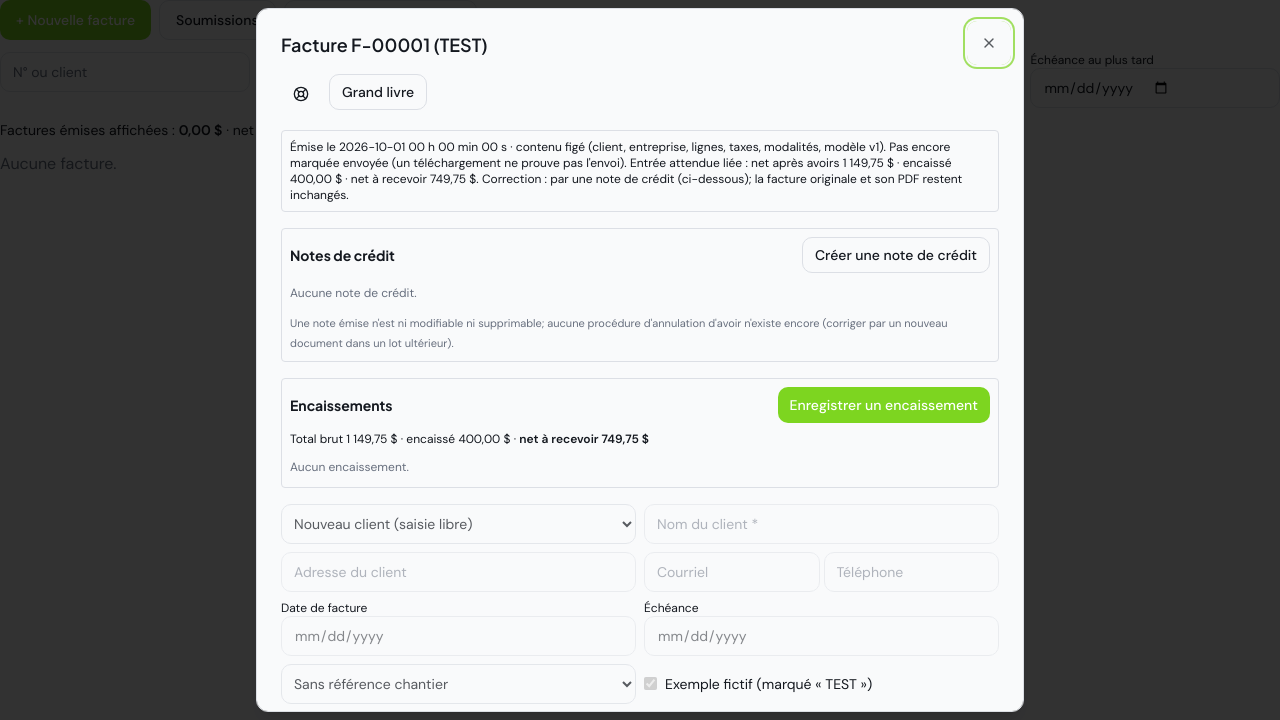
Test: FIN-09A correctifs — fiche ouverte › émettre l'avoir 229,95 met à jour la fiche déjà ouverte : net à recevoir 519,80
Click the button "Créer une note de crédit" at (896, 255), box [802,237,990,273]
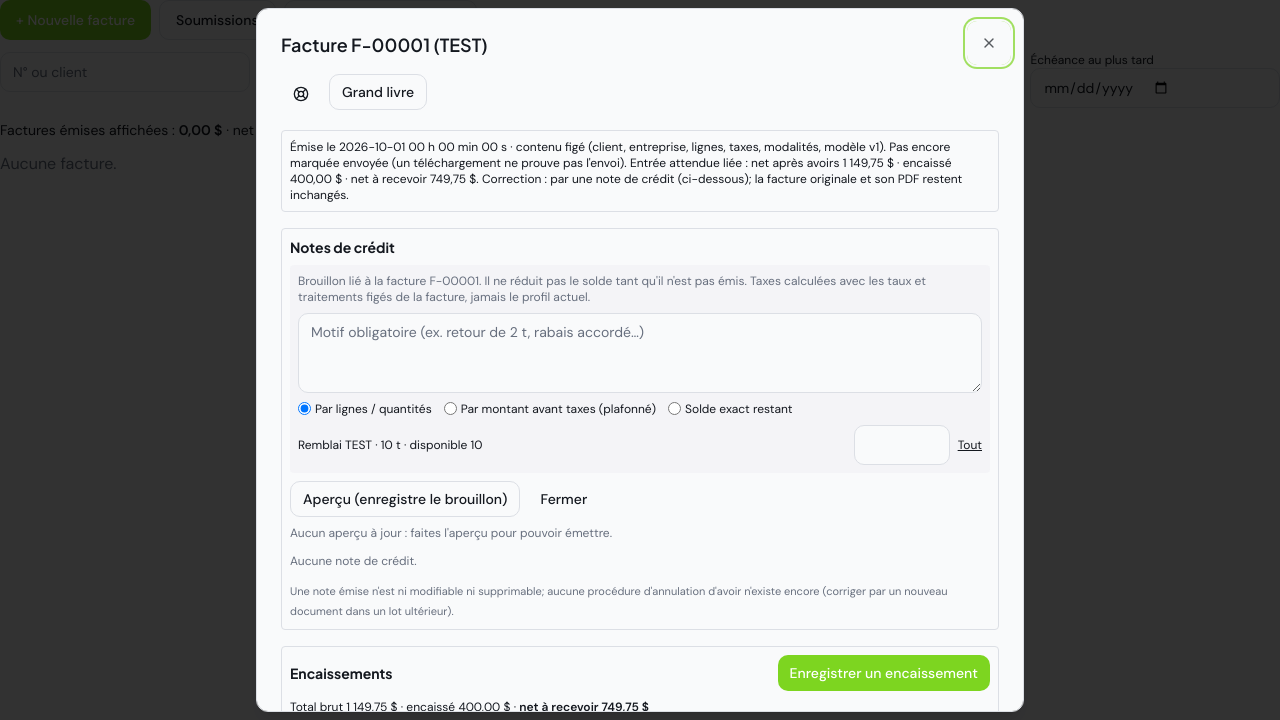
Type "Rabais TEST" into the text box labelled "Motif" at (640, 353), box [298,313,982,393]
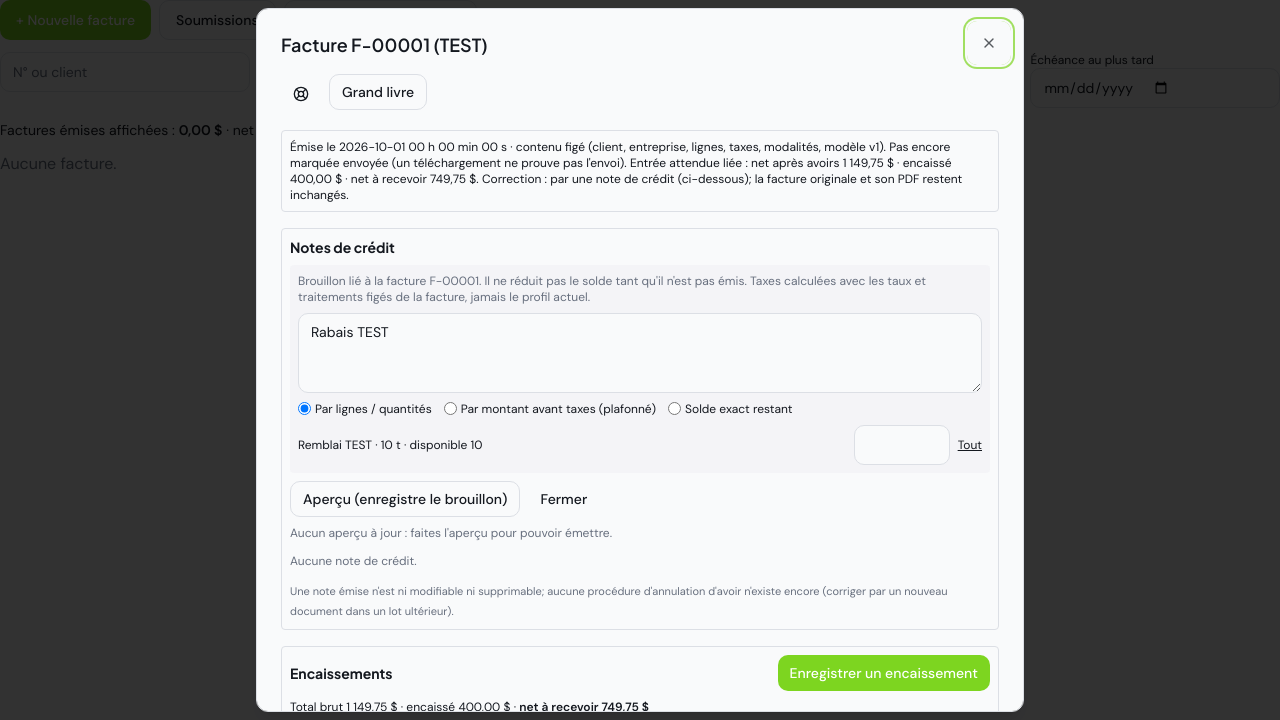
Click the radio button labelled "Par montant avant taxes (plafonné)" at (450, 409), box [444,402,457,415]
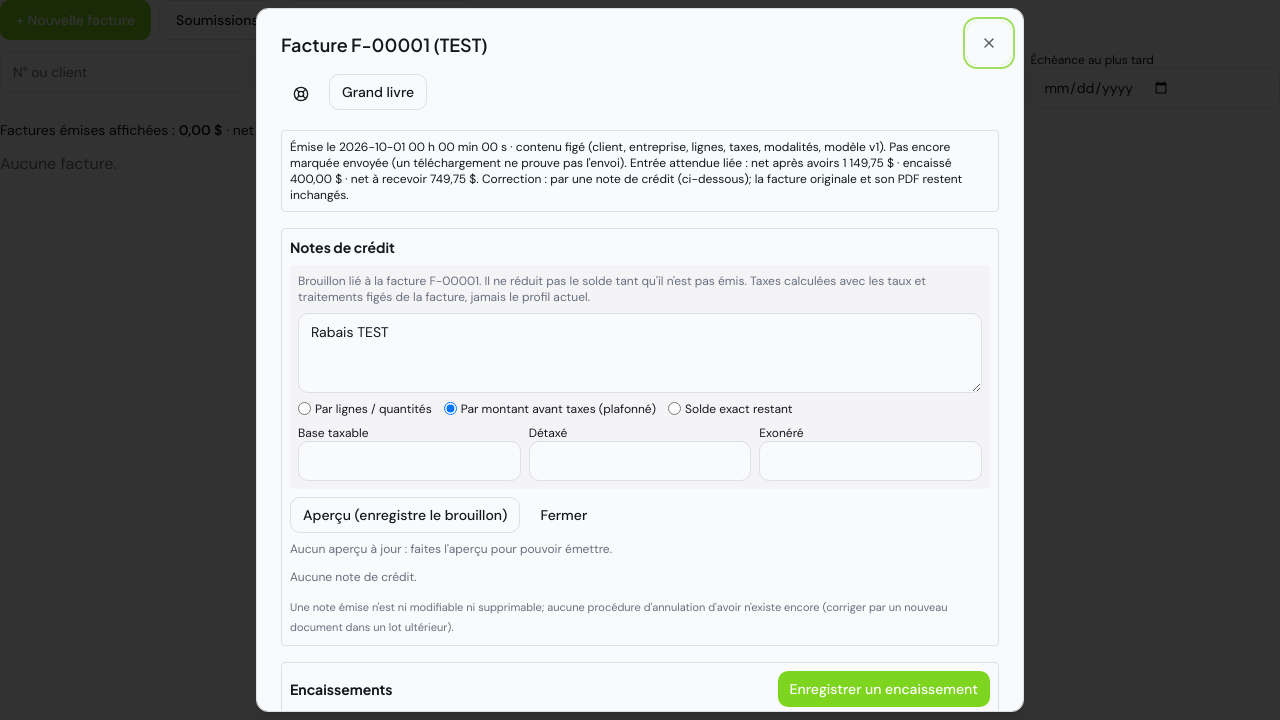
Type "200" into the field labelled "Base taxable" at (409, 461), box [298,441,521,481]
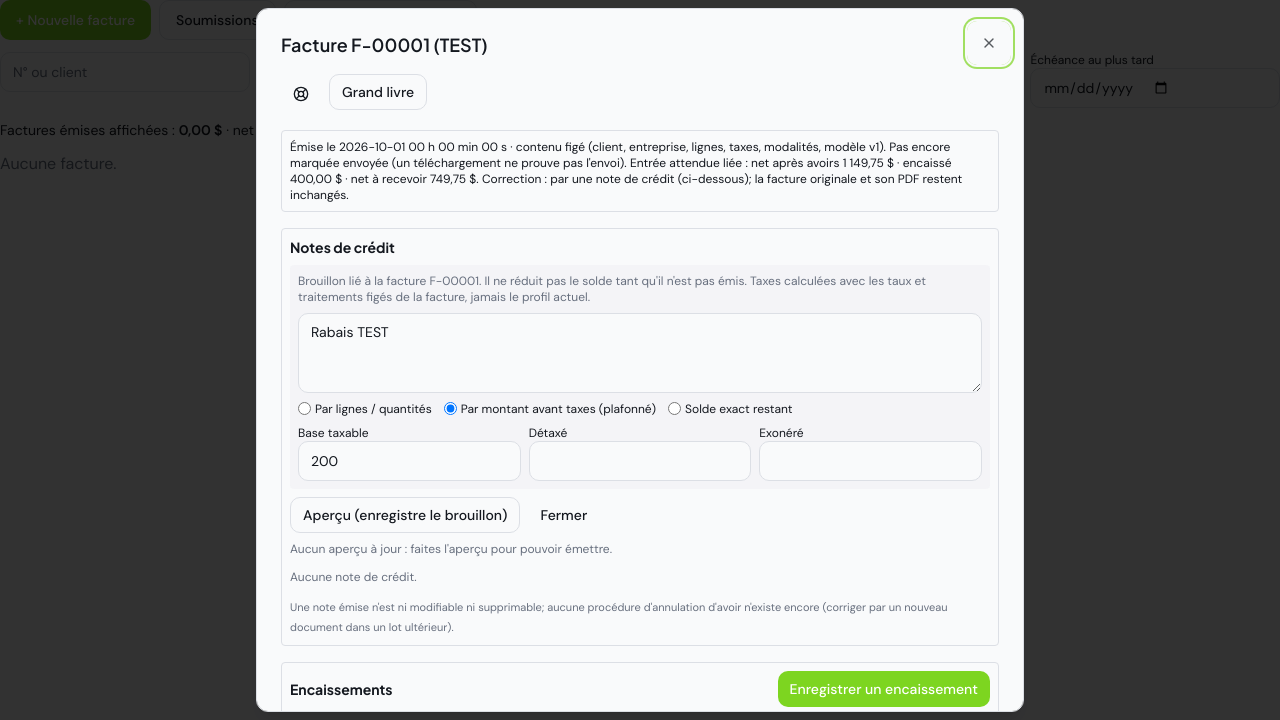
Click the button "Aperçu (enregistre le brouillon)" at (405, 515), box [290,497,520,533]
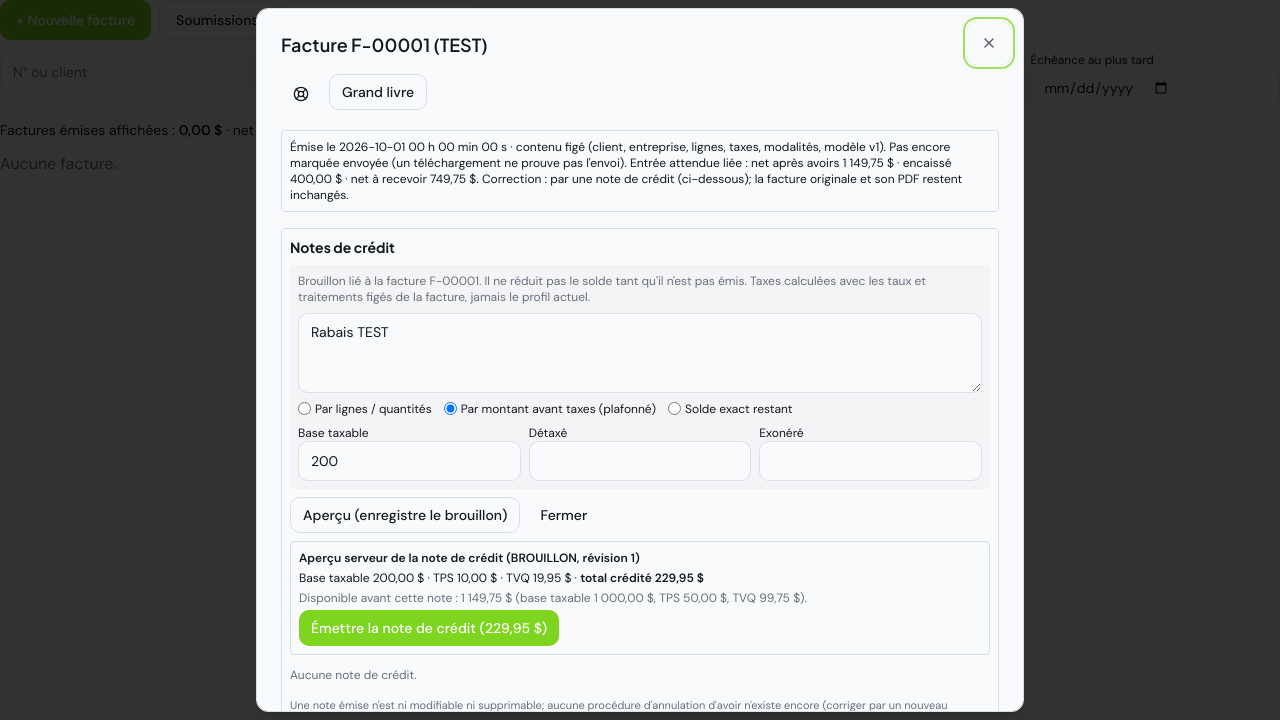
Click the button "Émettre la note de crédit (229,95 $)" at (429, 628), box [299,610,559,646]
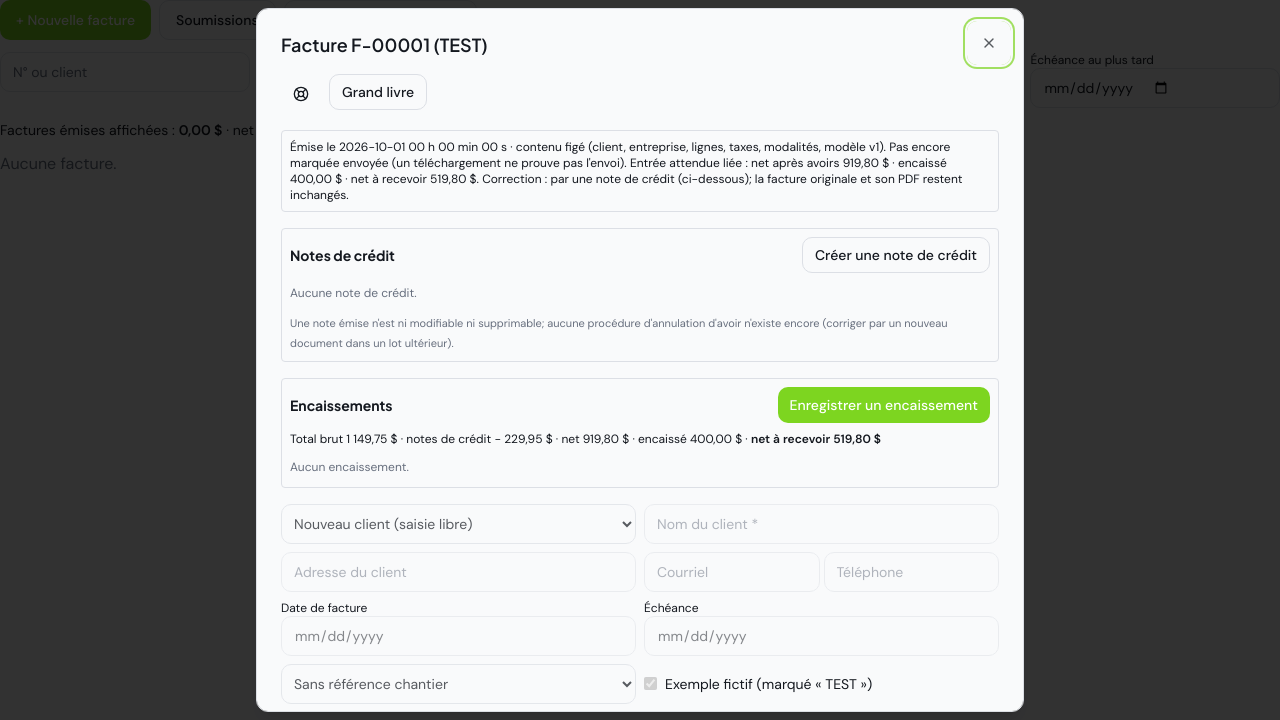
Expected: the text "net à recevoir 519,80" is shown 2 times, [281,130,999,212]; [751,431,881,447]
Expected: the text "notes de crédit − 229,95" is shown, [290,431,881,447]
Expected: the text "net à recevoir 749,75" is gone
